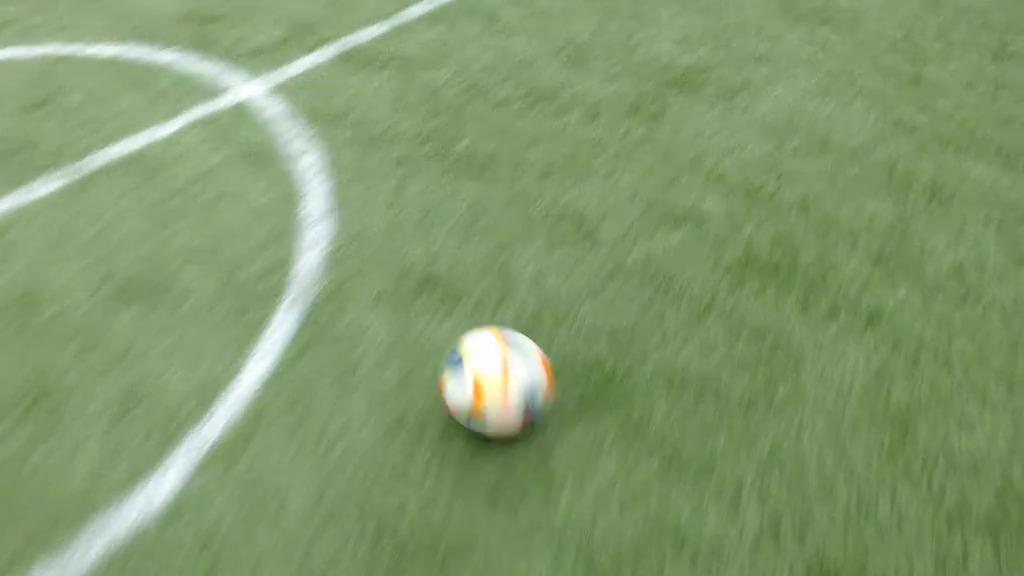ball: (441, 326, 557, 440)
